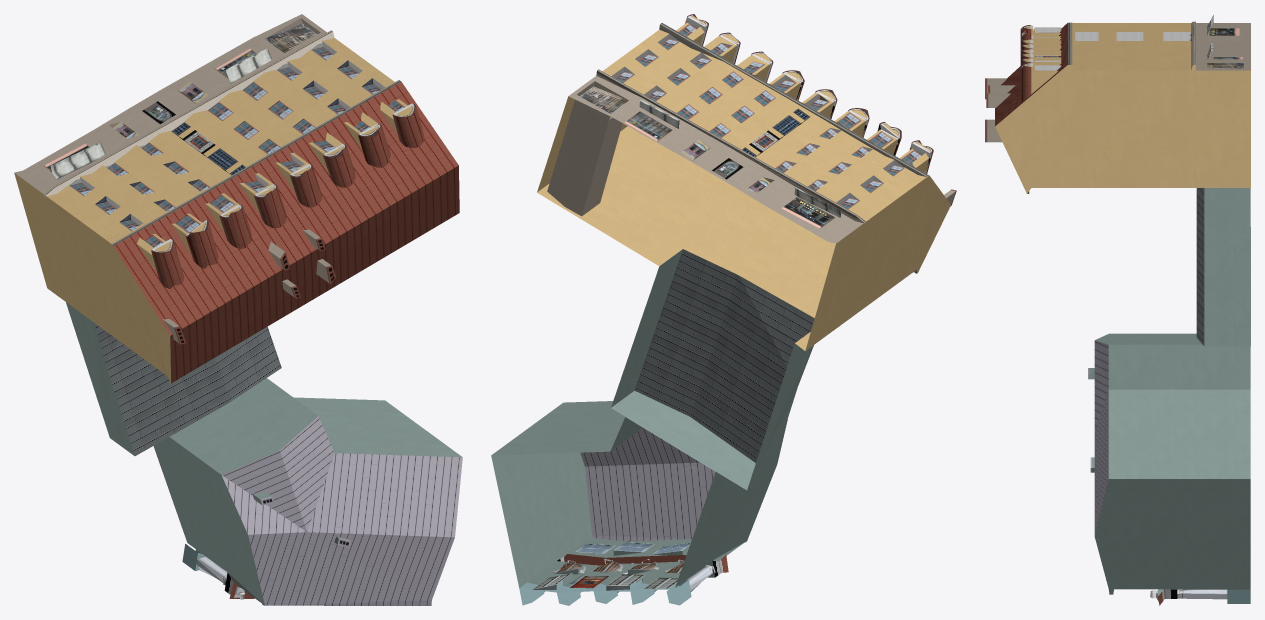
The model's file is Vabaduse_valjak_2c-origo.obj.
3 views of the same model, side by side, from view 1: azimuth 30°, elevation 25°; view 2: azimuth 150°, elevation 25°; view 3: azimuth 270°, elevation 25° (orthographic). The views are drawn at different scales.
Visible parts, largest first — view 1: Vabaduse_valjak_2b; view 2: Vabaduse_valjak_2b; view 3: Vabaduse_valjak_2b.
Boxes of the visible parts, left/top/right/bottom form: Vabaduse_valjak_2b: left=14, top=14, right=462, bottom=605; Vabaduse_valjak_2b: left=491, top=14, right=956, bottom=605; Vabaduse_valjak_2b: left=985, top=15, right=1250, bottom=605.
Bounding box in the file's own units: 33 × 48 × 22.36.
